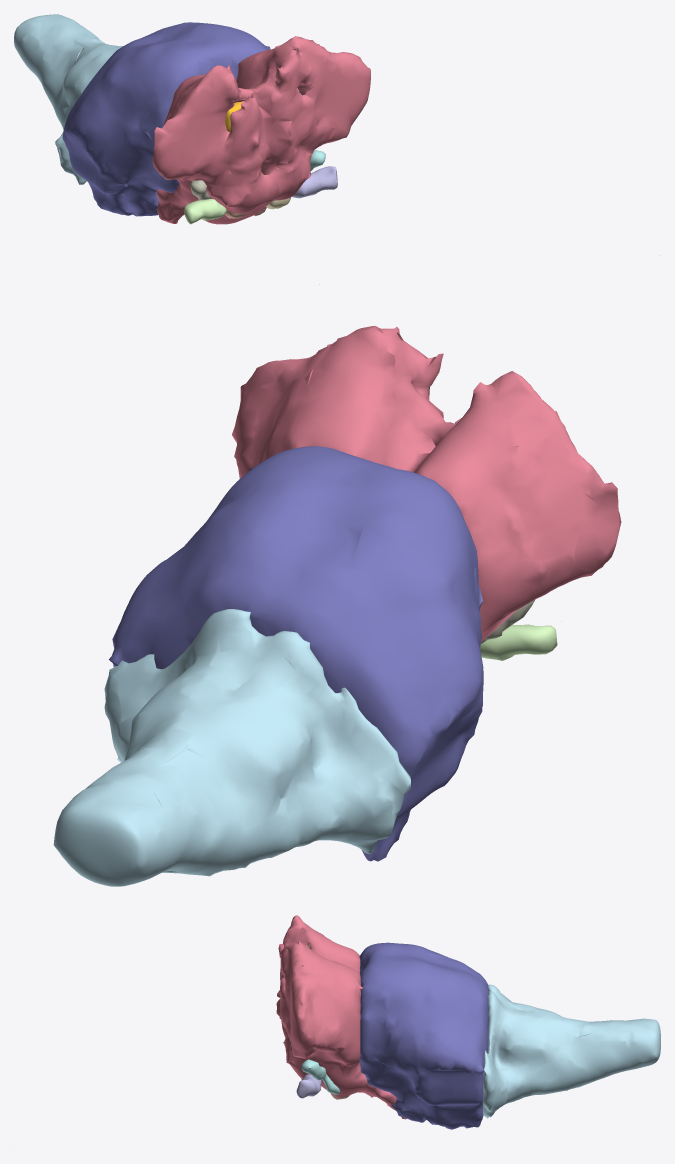
The model's file is brainstem.glb.
3 views of the same model, one above another, from view 1: azimuth 30°, elevation 25°; view 2: azimuth 150°, elevation 25°; view 3: azimuth 270°, elevation 25° (orthographic). The views are drawn at different scales.
Parts seen in each view (by area): view 1: spl-40, spl-35, spl-61, spl-3030, spl-3031; view 2: spl-35, spl-61, spl-40, spl-3031; view 3: spl-35, spl-61, spl-40, spl-3032, spl-3030.
Part boxes in pixels (box(x1,y1,x2,y2)): spl-40: box(152, 36, 370, 224); spl-35: box(62, 22, 270, 216); spl-61: box(14, 14, 123, 184); spl-3030: box(292, 166, 337, 198); spl-3031: box(184, 199, 226, 224); spl-35: box(109, 446, 483, 861); spl-61: box(53, 609, 410, 886); spl-40: box(232, 326, 621, 642); spl-3031: box(480, 621, 561, 660); spl-35: box(359, 942, 488, 1129); spl-61: box(482, 984, 660, 1118); spl-40: box(276, 915, 406, 1119); spl-3032: box(301, 1059, 340, 1094); spl-3030: box(296, 1074, 321, 1098).
Bounding box in the file's own units: 68.79 × 42.02 × 132.
